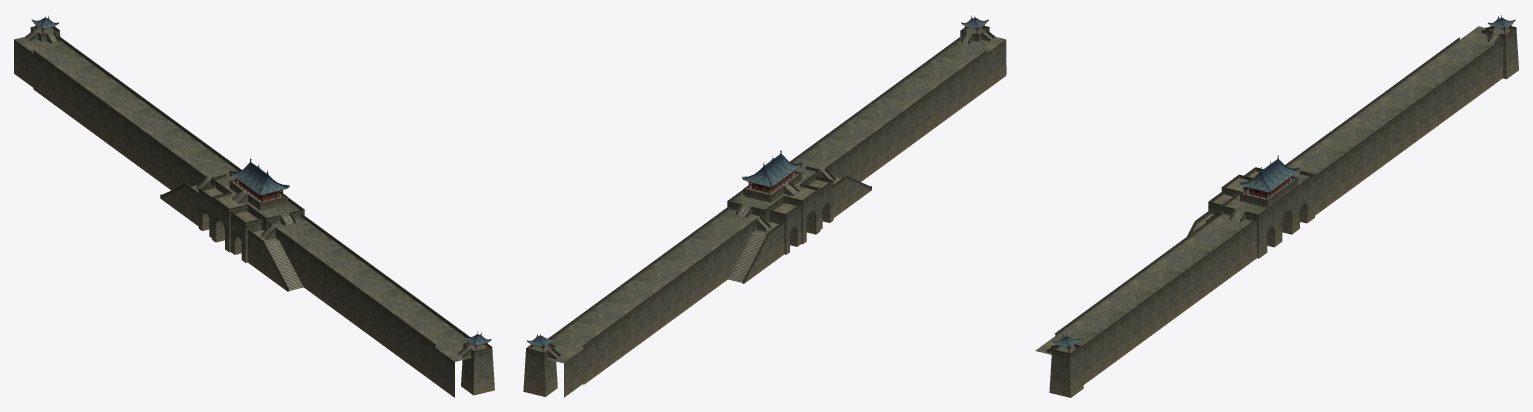
File: cj_e_cut.glb
3 renders of one model, left to right at view 1: azimuth 30°, elevation 25°; view 2: azimuth 150°, elevation 25°; view 3: azimuth 330°, elevation 25°, orthographic.
Visible parts, largest first — view 1: E-gate|CJ_e_wall01, E-end1|CJ_e_wall01, E-gate|CJ_e_wall02, E-end1|CJ_se_wall01, E-end0|CJ_e_wall01, E5a|CJ_e_wall01, E6b|CJ_e_wall01, E6c|CJ_e_wall01, E6a|CJ_e_wall01, E7a|CJ_e_wall01, E7c|CJ_e_wall01, E7b|CJ_e_wall01 (+16 smaller); view 2: E-gate|CJ_e_wall01, E-end1|CJ_e_wall01, E-gate|CJ_e_wall02, E-end0|CJ_se_wall01, E6a|CJ_e_wall01, E6b|CJ_e_wall01, E6c|CJ_e_wall01, E7b|CJ_e_wall01, E7a|CJ_e_wall01, E7c|CJ_e_wall01, E-end0|CJ_e_wall01, E5c|CJ_e_wall01 (+16 smaller); view 3: E-gate|CJ_e_wall01, E-end1|CJ_se_wall01, E-gate|CJ_e_wall02, E-end1|CJ_e_wall01, E5a|CJ_e_wall01, E6b|CJ_e_wall01, E6c|CJ_e_wall01, E6a|CJ_e_wall01, E7a|CJ_e_wall01, E7b|CJ_e_wall01, E7c|CJ_e_wall01, E5c|CJ_e_wall01 (+16 smaller).
Boxes of the visible parts, <box> form: E-gate|CJ_e_wall01: <box>193,175,304,265</box>; E-end1|CJ_e_wall01: <box>422,330,472,395</box>; E-gate|CJ_e_wall02: <box>193,174,305,267</box>; E-end1|CJ_se_wall01: <box>461,344,494,393</box>; E-end0|CJ_e_wall01: <box>14,36,66,87</box>; E5a|CJ_e_wall01: <box>254,219,320,277</box>; E6b|CJ_e_wall01: <box>337,268,387,322</box>; E6c|CJ_e_wall01: <box>354,280,404,334</box>; E6a|CJ_e_wall01: <box>320,255,370,309</box>; E7a|CJ_e_wall01: <box>371,293,421,347</box>; E7c|CJ_e_wall01: <box>405,318,455,372</box>; E7b|CJ_e_wall01: <box>388,305,438,359</box>; E-gate|CJ_e_wall01: <box>727,167,838,257</box>; E-end1|CJ_e_wall01: <box>941,36,1006,97</box>; E-gate|CJ_e_wall02: <box>726,163,838,259</box>; E-end0|CJ_se_wall01: <box>523,345,557,395</box>; E6a|CJ_e_wall01: <box>838,117,888,172</box>; E6b|CJ_e_wall01: <box>855,105,905,159</box>; E6c|CJ_e_wall01: <box>873,92,922,147</box>; E7b|CJ_e_wall01: <box>907,67,956,122</box>; E7a|CJ_e_wall01: <box>889,80,939,134</box>; E7c|CJ_e_wall01: <box>924,55,973,109</box>; E-end0|CJ_e_wall01: <box>546,341,583,397</box>; E5c|CJ_e_wall01: <box>822,130,871,181</box>; E-gate|CJ_e_wall01: <box>1204,171,1315,258</box>; E-end1|CJ_se_wall01: <box>1048,346,1083,396</box>; E-gate|CJ_e_wall02: <box>1203,167,1315,259</box>; E-end1|CJ_e_wall01: <box>1035,327,1101,383</box>; E5a|CJ_e_wall01: <box>1196,216,1254,270</box>; E6b|CJ_e_wall01: <box>1137,264,1187,319</box>; E6c|CJ_e_wall01: <box>1120,277,1170,332</box>; E6a|CJ_e_wall01: <box>1154,252,1204,306</box>; E7a|CJ_e_wall01: <box>1103,290,1153,344</box>; E7b|CJ_e_wall01: <box>1086,302,1136,357</box>; E7c|CJ_e_wall01: <box>1069,315,1118,369</box>; E5c|CJ_e_wall01: <box>1172,240,1221,294</box>.
Size of the model in its own units: 33.25 by 39.2 by 440.
14 materials, 14 textured.
